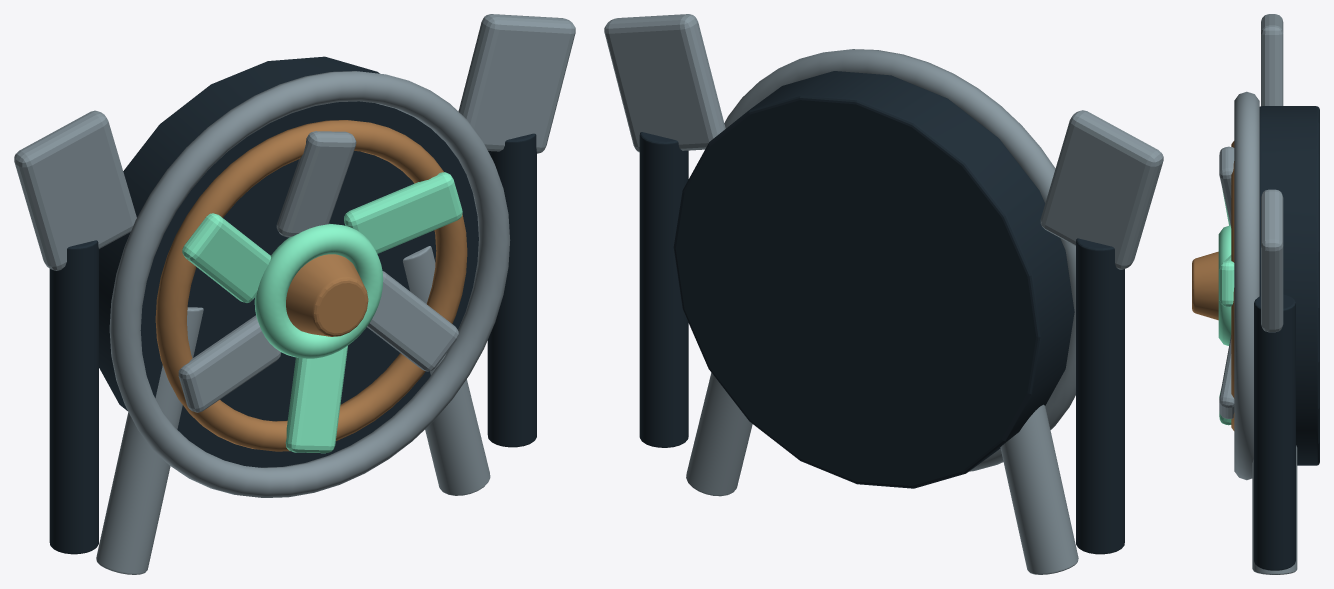
Rendered from chamber_landmark.glb.
3 renders of one model, left to right at view 1: azimuth 30°, elevation 25°; view 2: azimuth 150°, elevation 25°; view 3: azimuth 270°, elevation 25°, orthographic. The views are drawn at different scales.
Parts seen in each view (by area): view 1: chamber_landmark; view 2: chamber_landmark; view 3: chamber_landmark.
Boxes of the visible parts, <box> form: chamber_landmark: <box>14,14,575,574</box>; chamber_landmark: <box>604,14,1163,574</box>; chamber_landmark: <box>1192,14,1319,574</box>.
Size of the model in its own units: 3.88 by 3.11 by 0.91.
